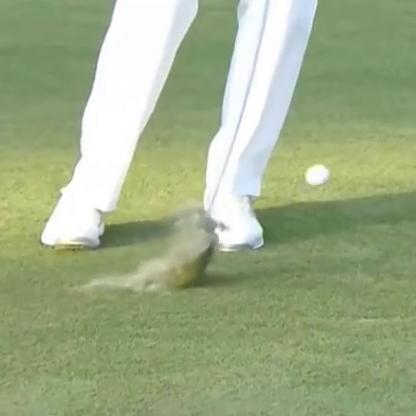golfball: (303, 160, 327, 184)
